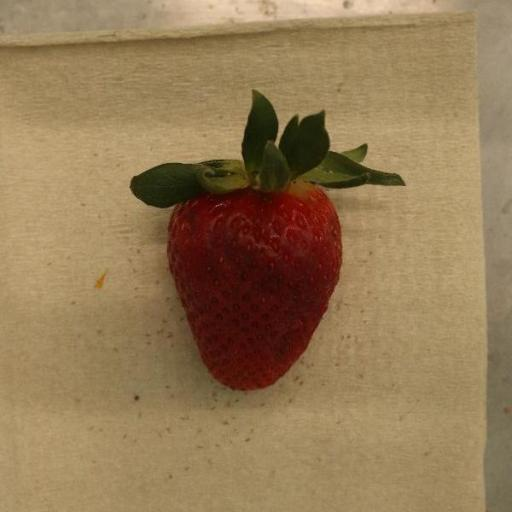Strawberry: (129, 92, 401, 390)
